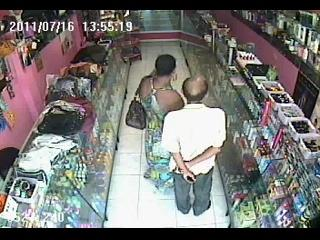Normal: (160, 75, 228, 216), (137, 54, 186, 194), (125, 82, 149, 130)
